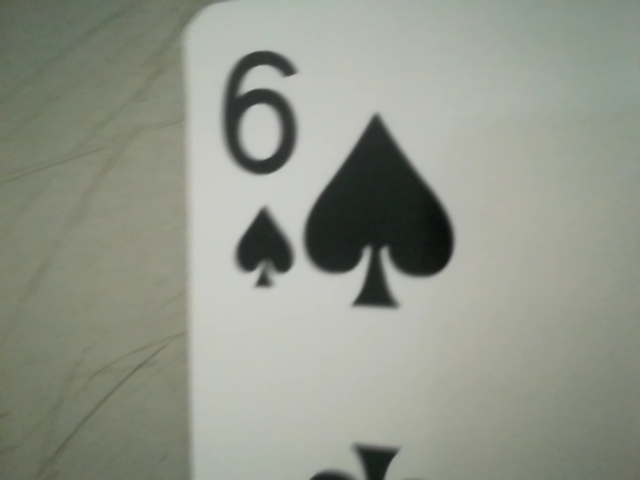ht 6: (202, 22, 318, 313)
